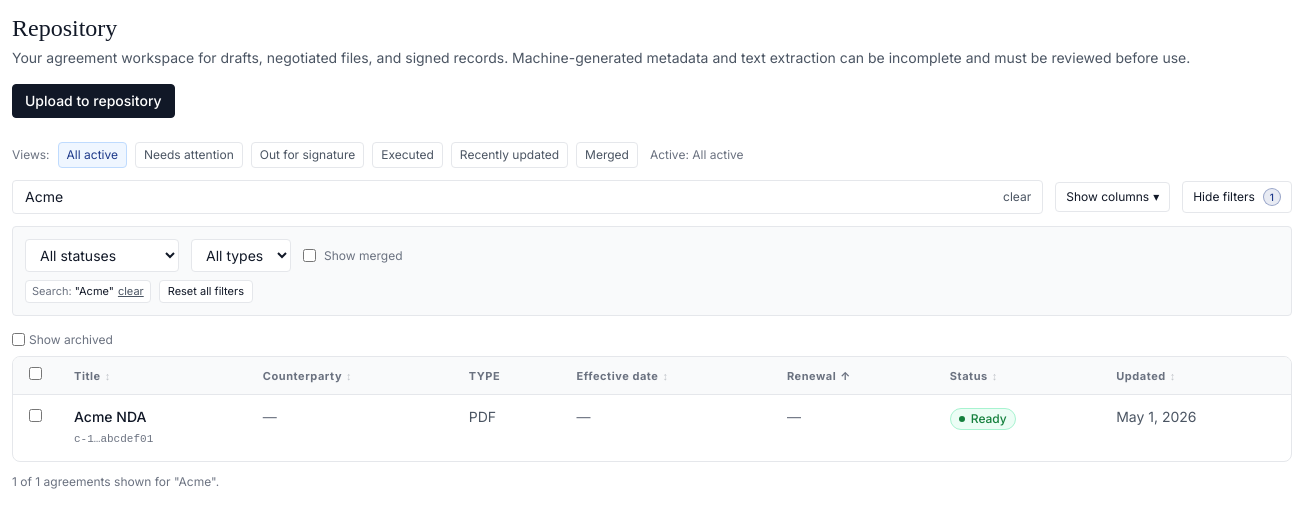
Test: ContractsPage (Repository list) › clear button inside the search box clears the URL
Step 1. Click the button with test id "repository-search-clear" → [1017, 197], box left=999, top=189, right=1035, bottom=205
Wait 300 ms
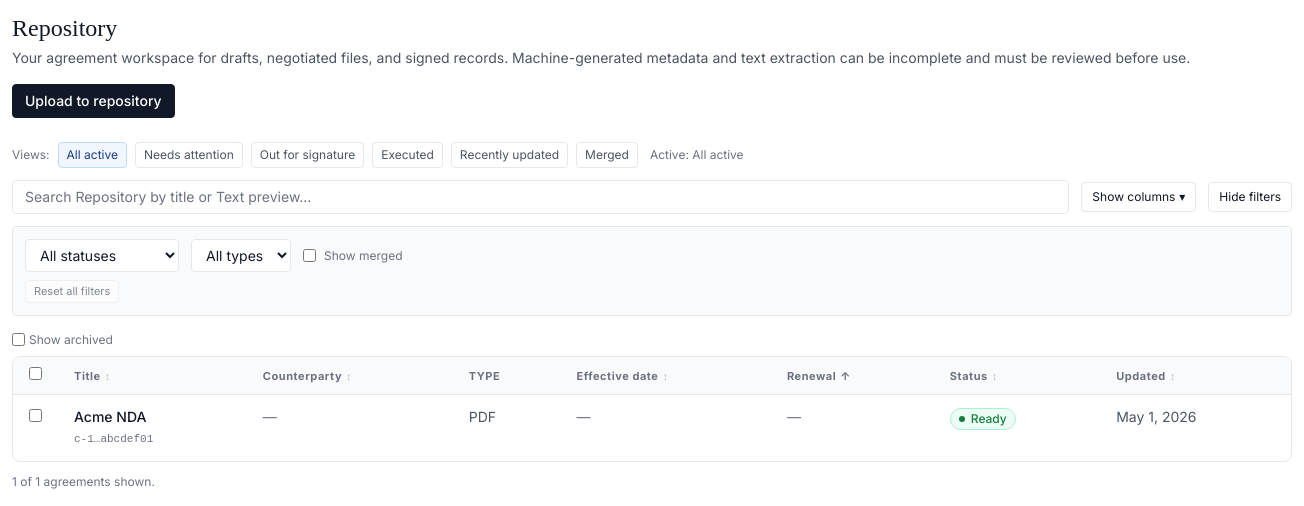
Expected: the search field with test id "repository-search" is empty, left=12, top=180, right=1069, bottom=214
